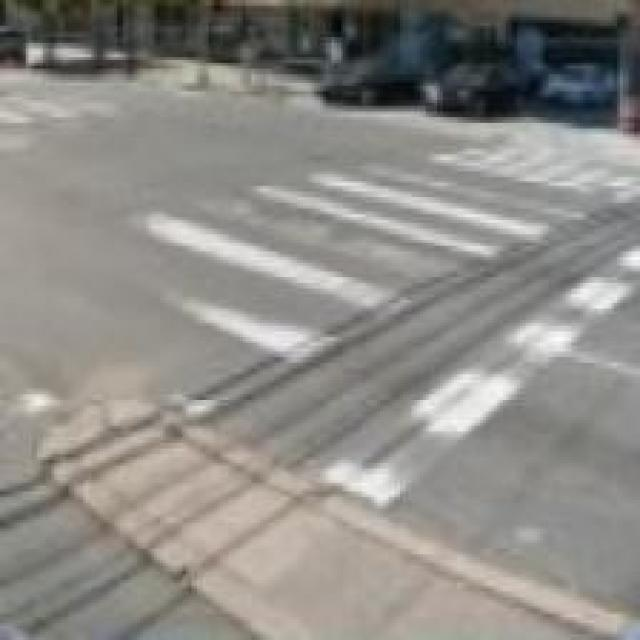zebra: (53, 110, 640, 521)
